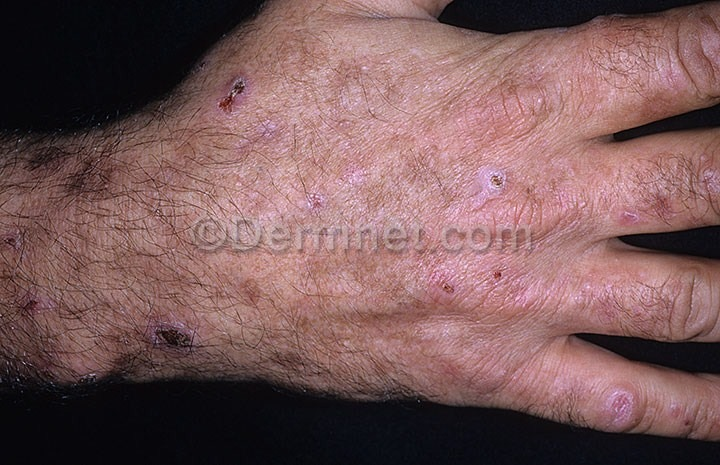Melasma: (85, 295, 210, 379), (0, 130, 129, 208), (560, 373, 710, 439), (0, 206, 68, 345), (575, 23, 709, 88), (198, 59, 289, 151), (562, 270, 681, 337), (595, 160, 720, 223), (420, 260, 533, 314), (452, 138, 515, 205)
